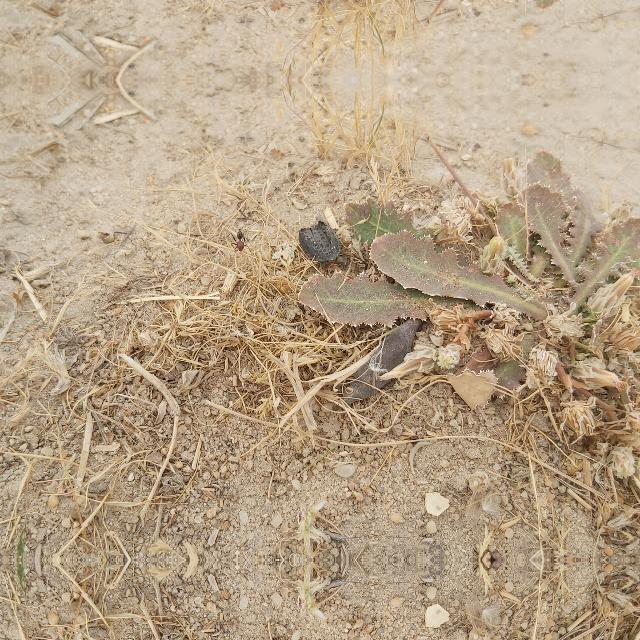Cataglyphis: (232, 229, 250, 253)
